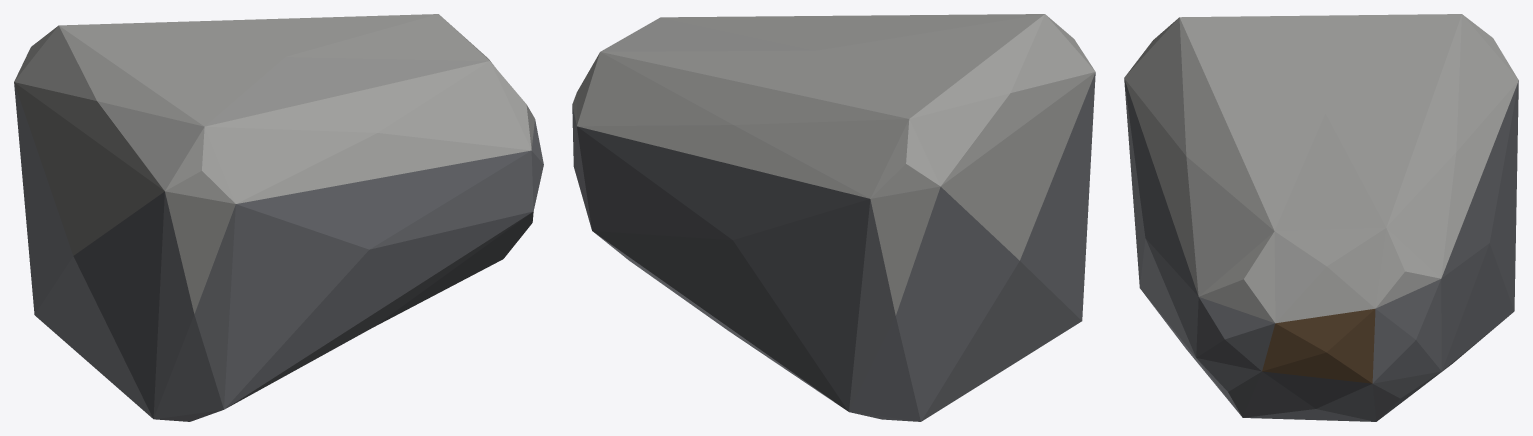
The model's file is flint_stone.glb.
3 views of the same model, side by side, from view 1: azimuth 30°, elevation 25°; view 2: azimuth 150°, elevation 25°; view 3: azimuth 270°, elevation 25° (orthographic).
Parts seen in each view (by area): view 1: flint_stone; view 2: flint_stone; view 3: flint_stone.
Boxes of the visible parts, x1=… form: flint_stone: x1=14, y1=14, x2=543, y2=421; flint_stone: x1=572, y1=14, x2=1095, y2=421; flint_stone: x1=1124, y1=14, x2=1518, y2=421.
Bounding box in the file's own units: 0.07 × 0.045 × 0.055.
